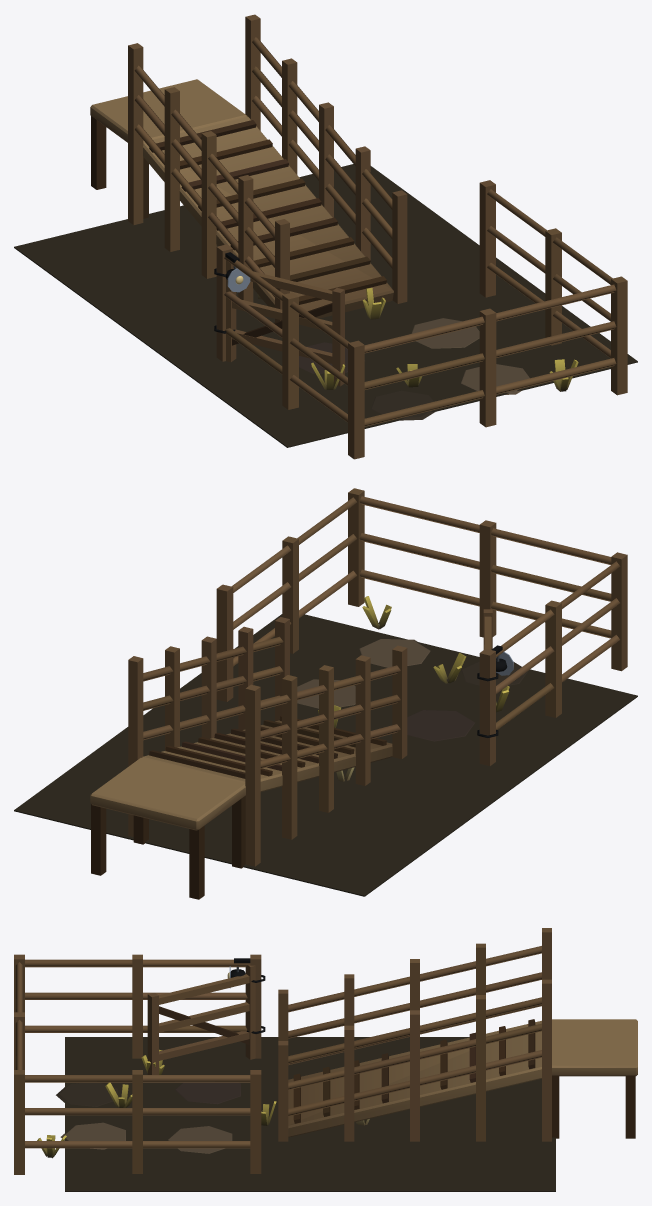
The model's file is cattle-dock.glb.
The picture shows the model from 3 angles, top to bottom: view 1: azimuth 30°, elevation 25°; view 2: azimuth 150°, elevation 25°; view 3: azimuth 270°, elevation 25°; orthographic projection. The views are drawn at different scales.
Parts seen in each view (by area): view 1: cattle_dock; view 2: cattle_dock; view 3: cattle_dock.
Boxes of the visible parts, x1,y1,x2,y2 form: cattle_dock: [14, 14, 637, 459]; cattle_dock: [14, 488, 637, 899]; cattle_dock: [14, 928, 637, 1191].
Size of the model in its own units: 4 by 1.94 by 6.86.
